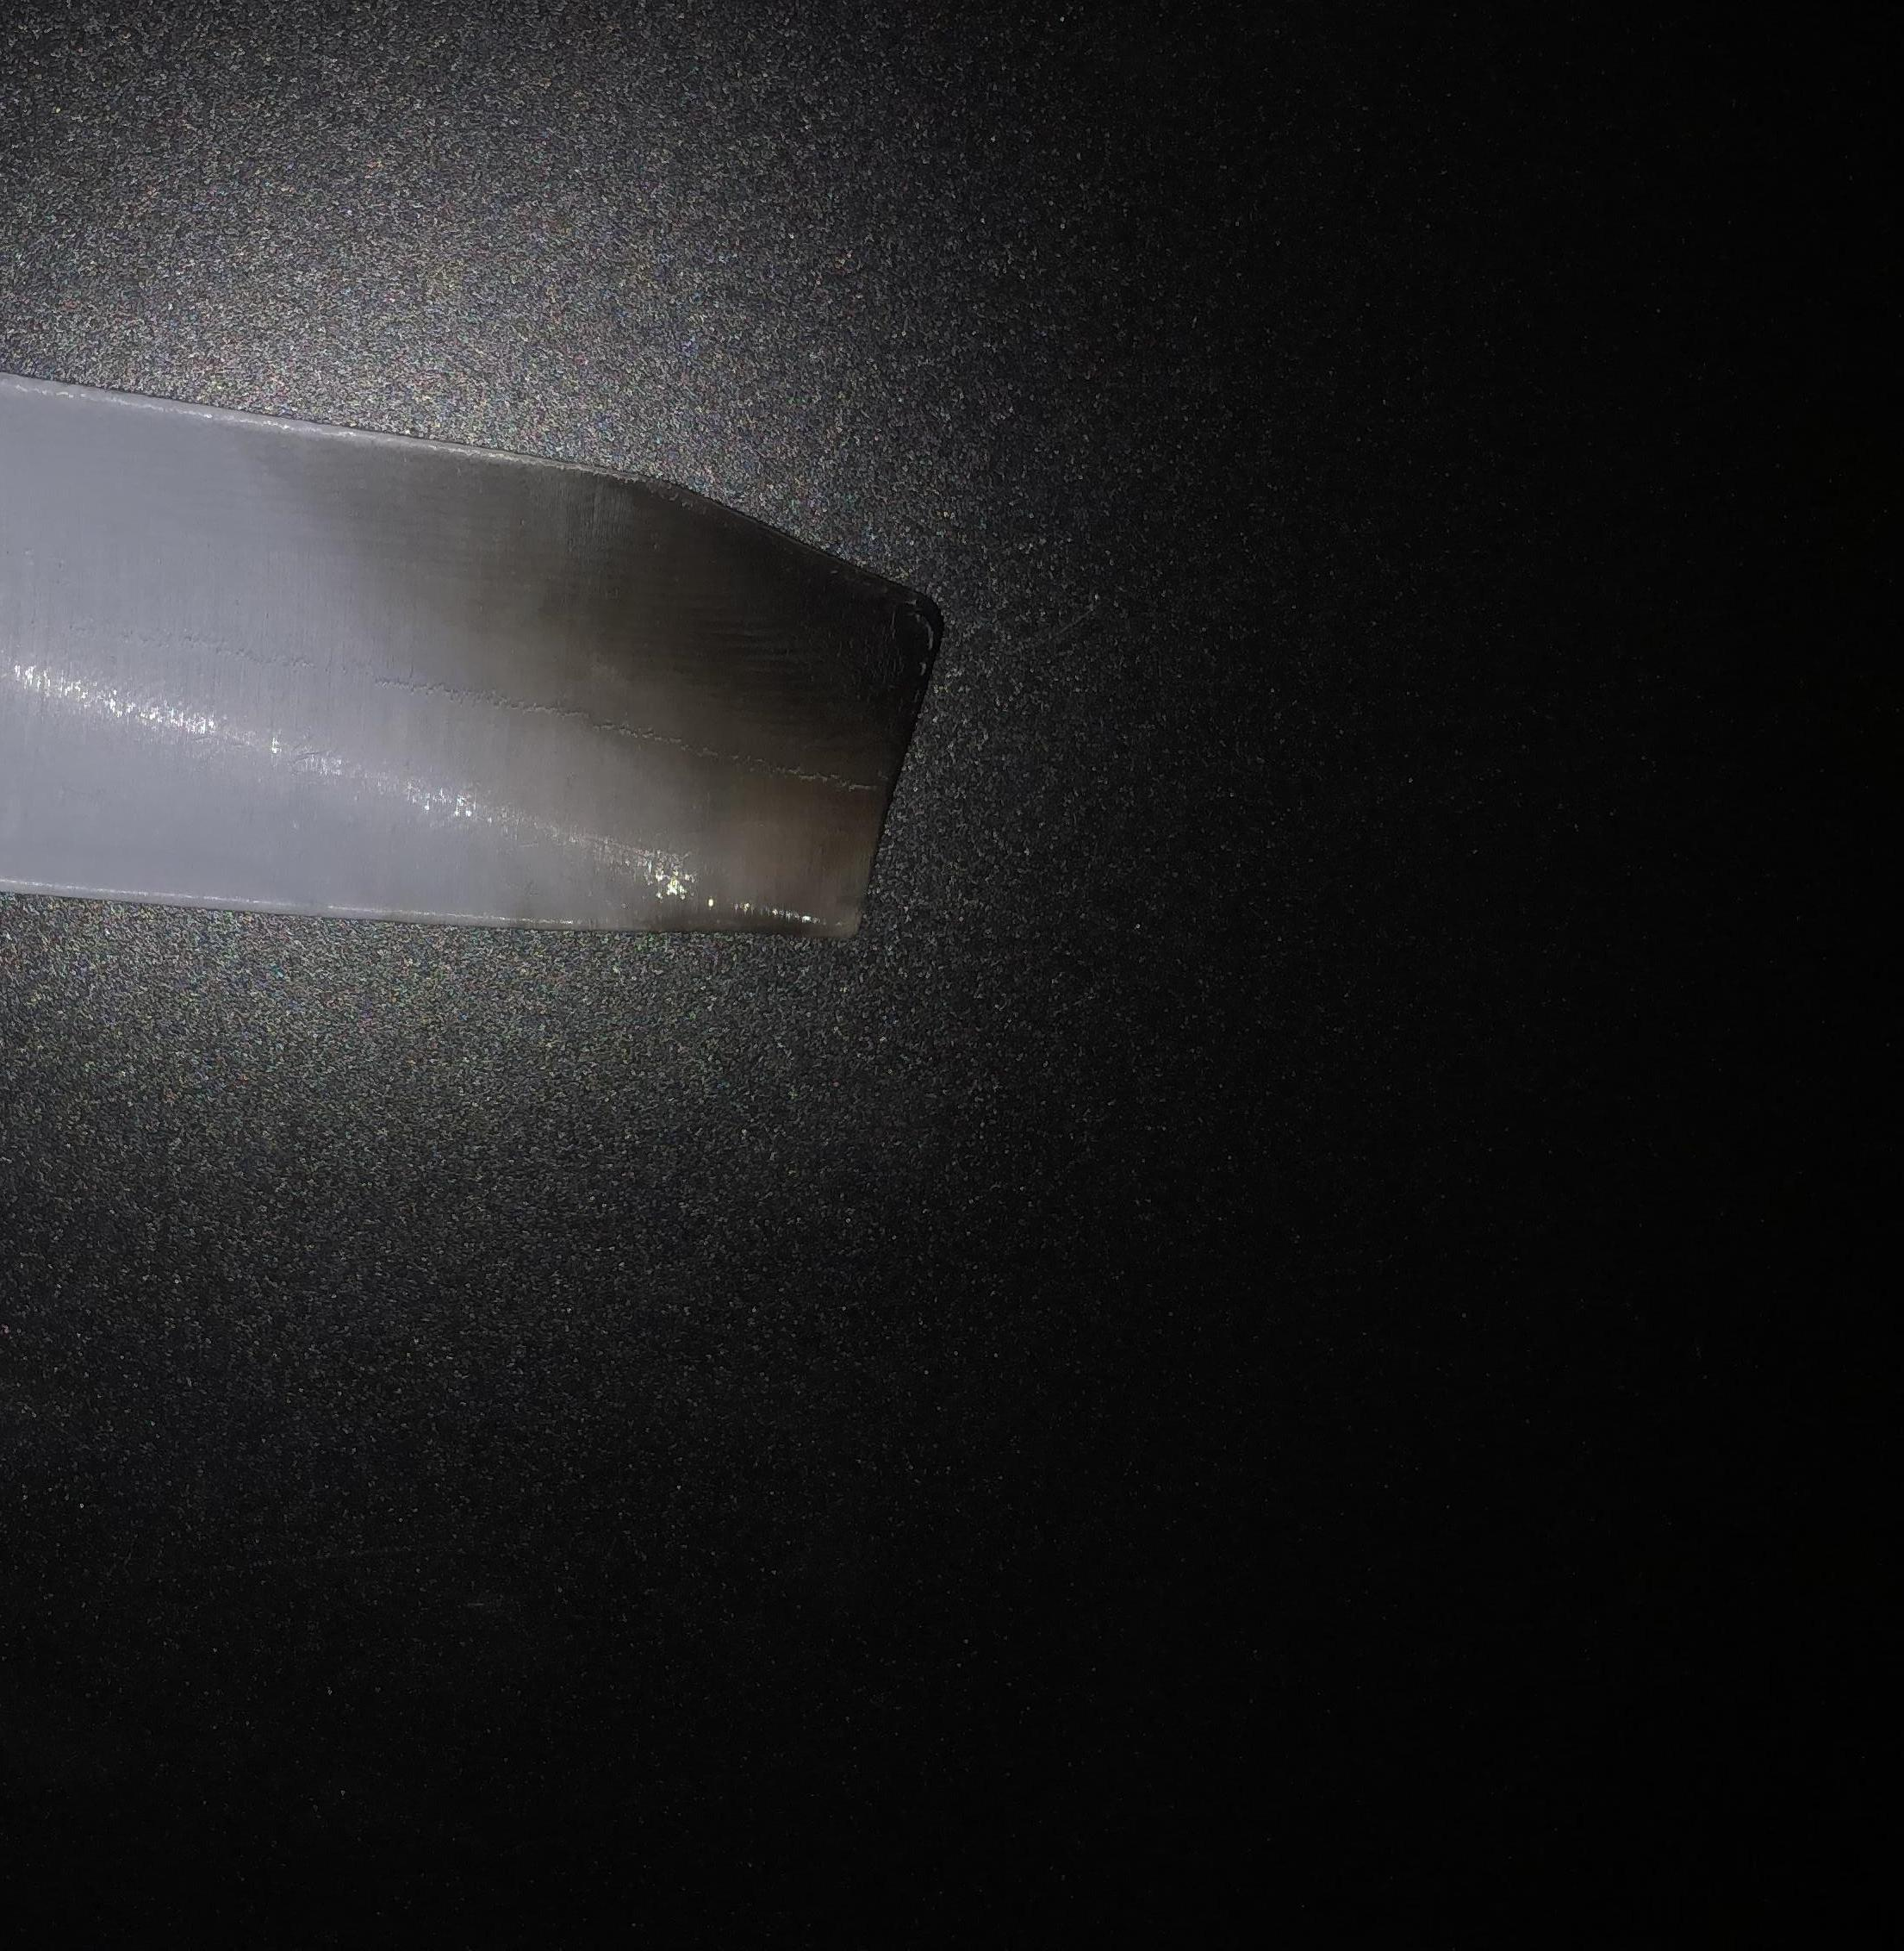ablation: (586, 504, 882, 853)
